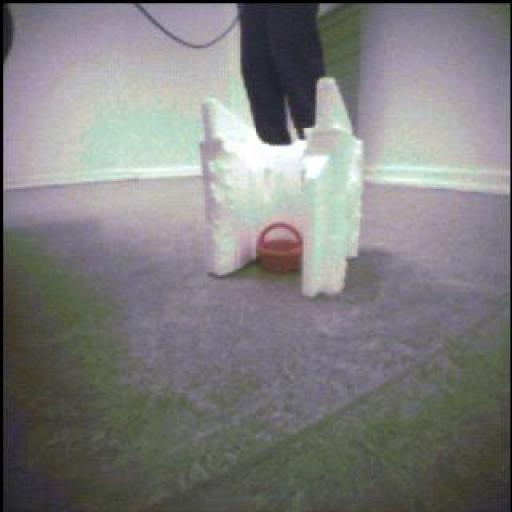Bucket: (254, 219, 305, 278)
